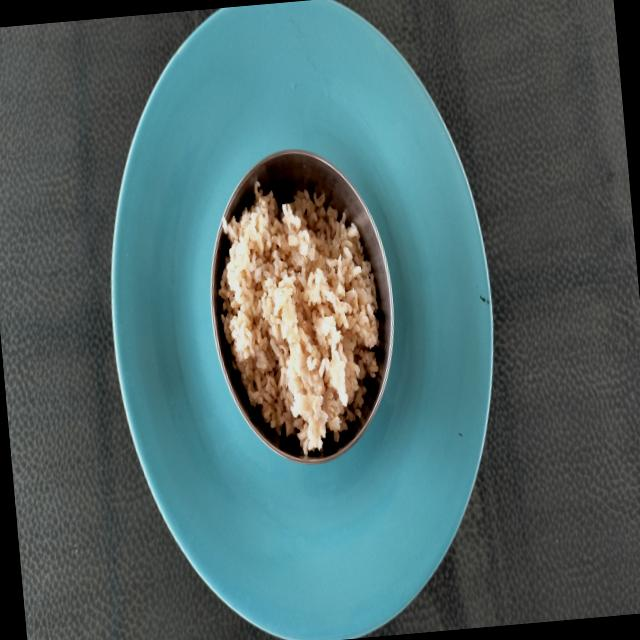brown-rice: (218, 182, 378, 454)
